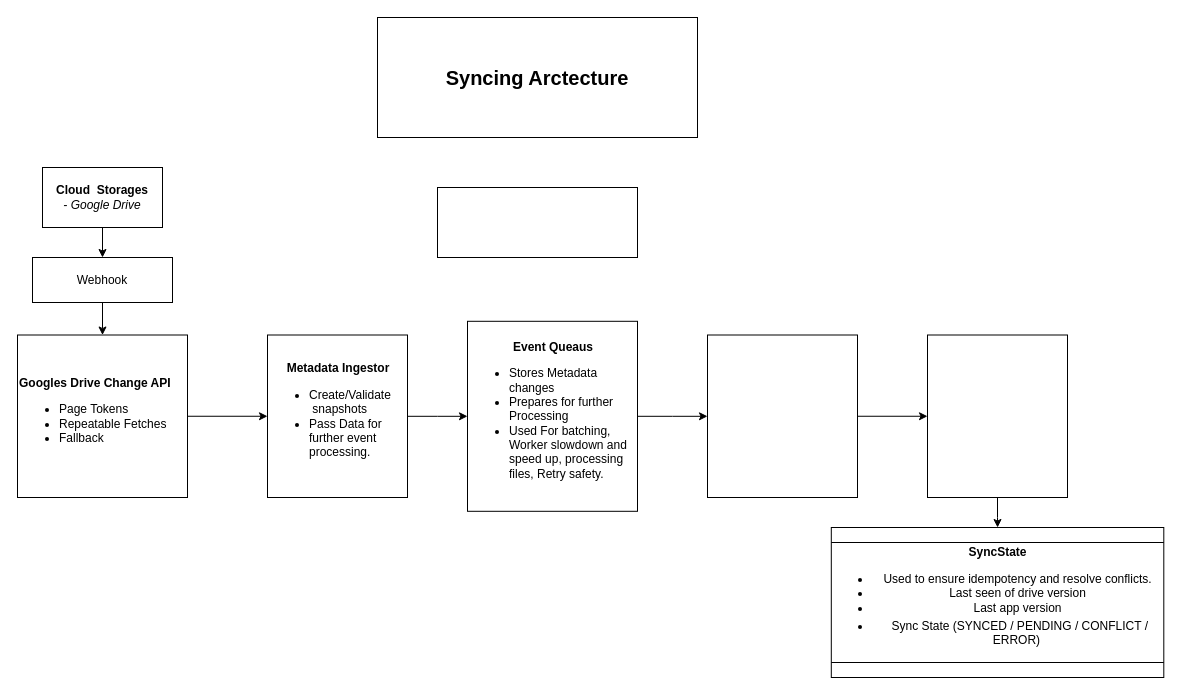
This 1182x695 diagram has some shape labels left out. The box of each missing label's shape, as (x1, y1, x2, y2) in pixels:
Basic Dataflow: (436, 186, 638, 258)
Creator Drive Metadata DB. Conflict Detector Sync State Tracker: (926, 334, 1068, 498)
Sync Workers Take events from the queue Apply logic Update Creator Drive State.: (706, 334, 858, 498)
